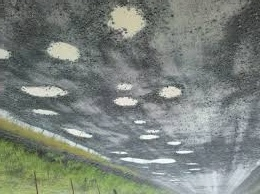pothole: (104, 2, 156, 42), (8, 122, 54, 148), (48, 40, 83, 65), (50, 140, 104, 155), (24, 82, 64, 97), (120, 158, 177, 166), (157, 83, 185, 99), (108, 96, 140, 107), (63, 129, 95, 140), (31, 108, 58, 118), (0, 48, 14, 63), (142, 127, 166, 134), (139, 133, 160, 140), (108, 148, 127, 155), (116, 84, 131, 92), (174, 149, 196, 154), (166, 138, 181, 145), (185, 161, 200, 166), (188, 167, 202, 172), (150, 171, 164, 176), (135, 119, 147, 124)
